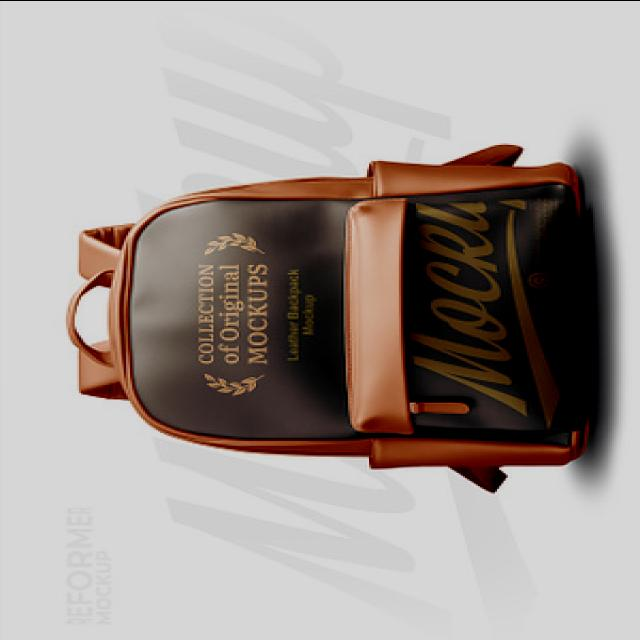backpack: (65, 145, 592, 494)
